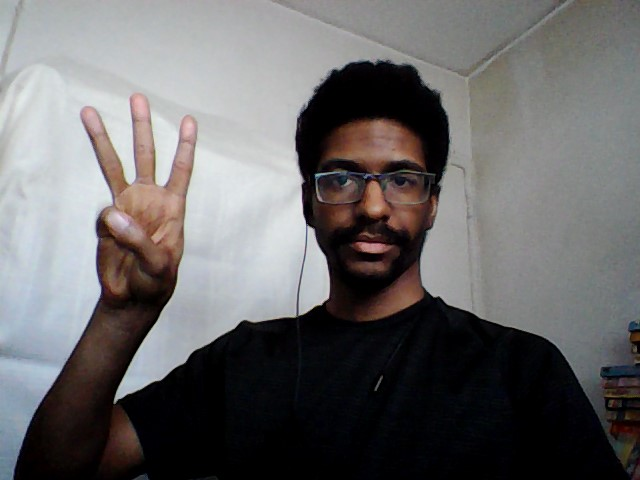w: (75, 87, 202, 306)
